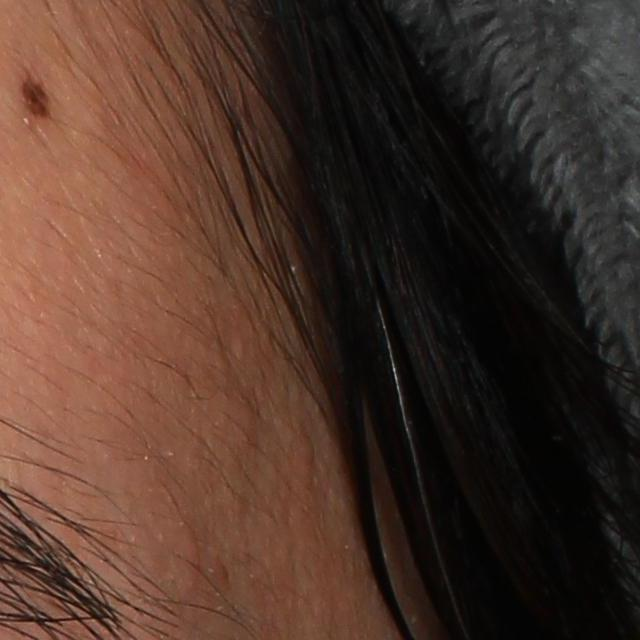nevus: (18, 70, 59, 118)
